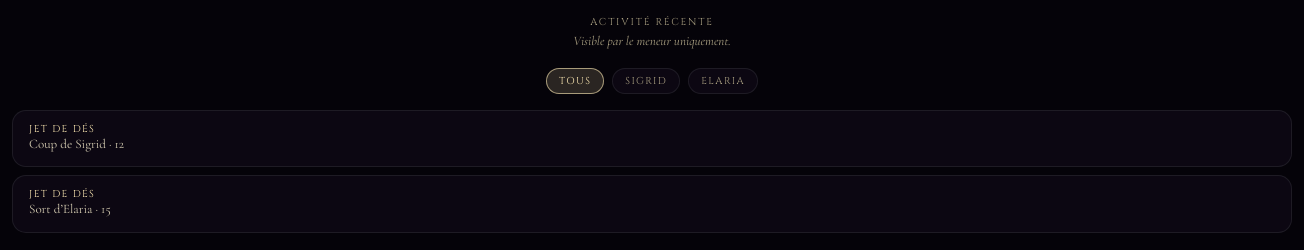
Test: <CampaignEventFeed> › sélectionner un joueur ne montre QUE ses événements
The width and height of the screenshot is (1304, 250).
Expected: the text "Coup de Sigrid · 12" is shown, [29,136,124,152]
Expected: the text "Sort d’Elaria · 15" is shown, [29,201,111,217]
Click the button "Sigrid". click: (646, 80)
box: [612,68,680,94]
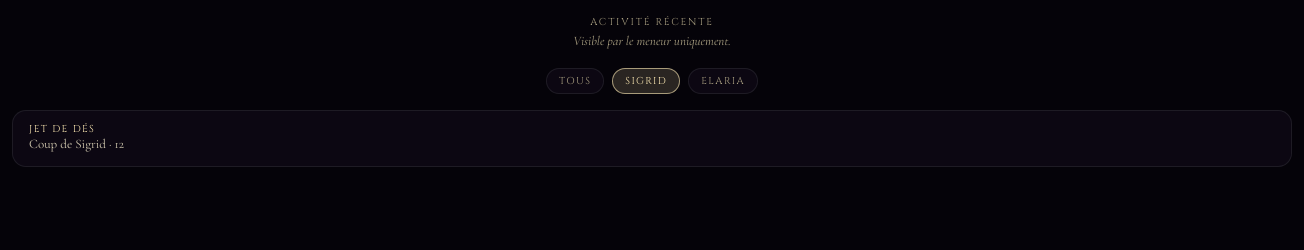
Expected: the text "Coup de Sigrid · 12" is shown, [29,136,124,152]
Now the button "Sort d’Elaria · 15" is gone
